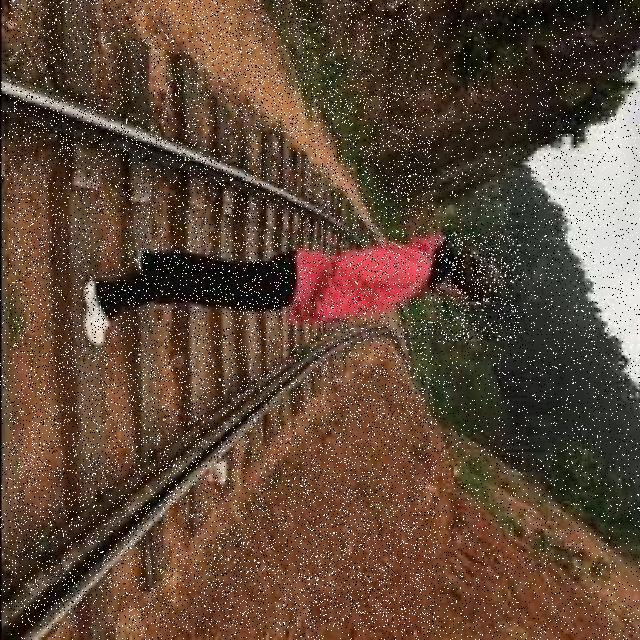rail: (10, 2, 437, 630)
